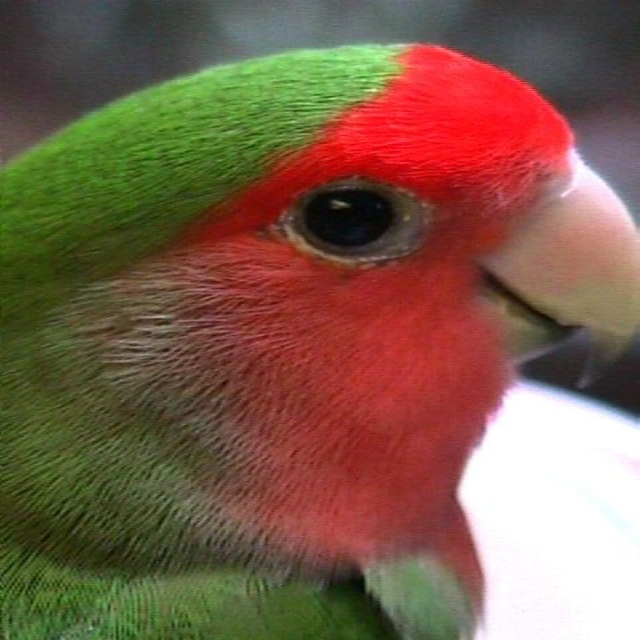Parrot: (1, 39, 633, 639)
